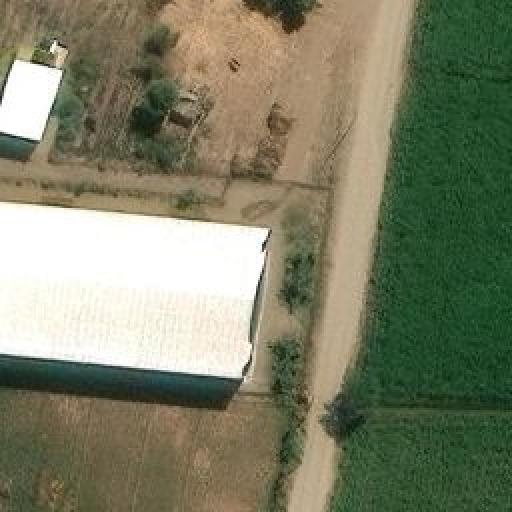manzanas: (0, 177, 328, 404), (0, 35, 71, 144)
